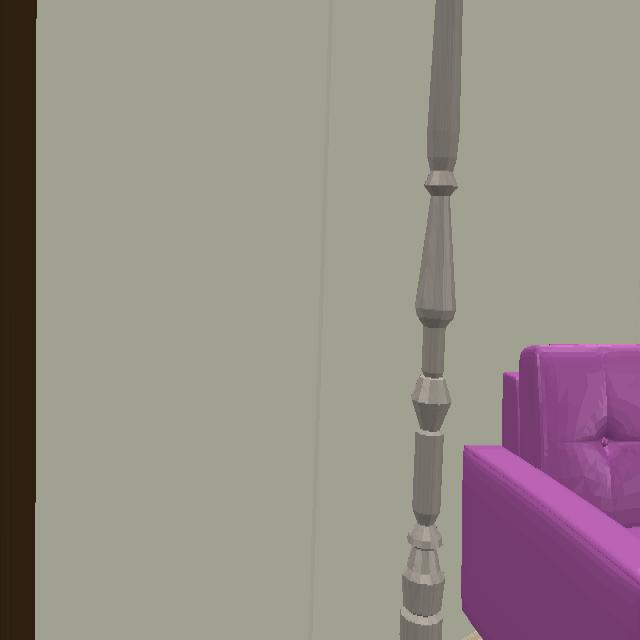sofa: (462, 345, 640, 638)
